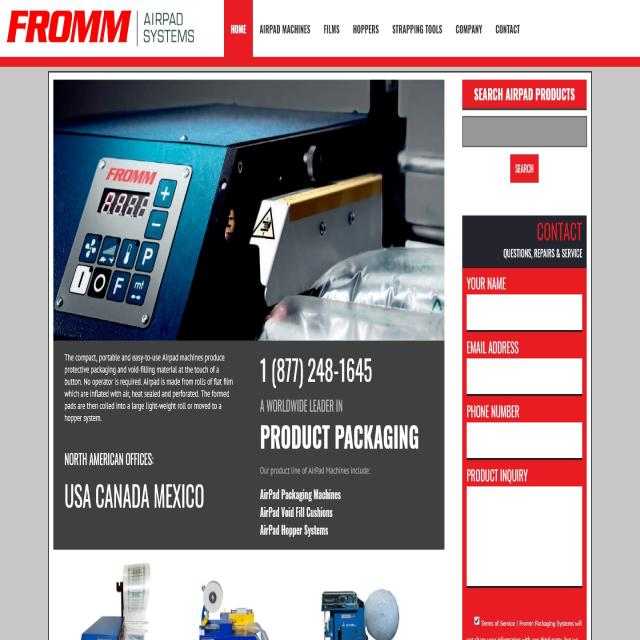button: (387, 2, 447, 56), (254, 1, 315, 54), (348, 0, 385, 57), (449, 4, 489, 56), (489, 1, 526, 55), (315, 0, 347, 57), (226, 0, 252, 57), (510, 154, 538, 183)
field: (468, 486, 582, 587), (468, 292, 583, 330), (468, 421, 582, 457), (468, 359, 584, 392), (462, 118, 586, 146)
heading: (62, 480, 205, 520), (3, 7, 132, 47), (260, 424, 420, 454), (257, 351, 377, 389), (473, 82, 578, 107), (61, 447, 156, 471), (257, 396, 349, 419), (534, 220, 584, 244)
image: (54, 78, 443, 341), (54, 556, 445, 640)
label: (466, 466, 531, 486), (466, 338, 521, 360), (464, 404, 521, 419), (466, 272, 506, 292)
text: (63, 351, 240, 423), (257, 487, 343, 544), (140, 10, 200, 48), (260, 465, 372, 481)
